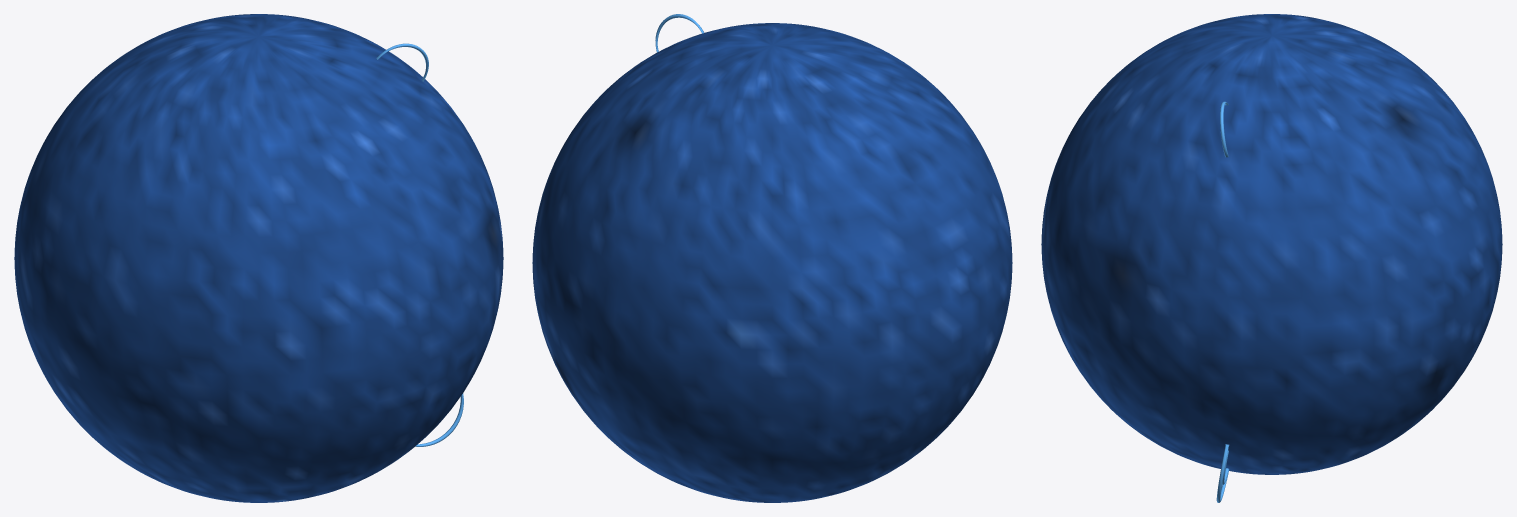
File: Star_00.fbx
3 views of the same model, side by side, from view 1: azimuth 30°, elevation 25°; view 2: azimuth 150°, elevation 25°; view 3: azimuth 270°, elevation 25° (orthographic). The views are drawn at different scales.
Parts seen in each view (by area): view 1: Star_00; view 2: Star_00; view 3: Star_00.
Boxes of the visible parts, box(x1,y1,x2,y2) form: Star_00: box(14, 14, 503, 502); Star_00: box(532, 14, 1012, 502); Star_00: box(1041, 14, 1502, 502).
Bounding box in the file's own units: 200 × 200 × 200.
